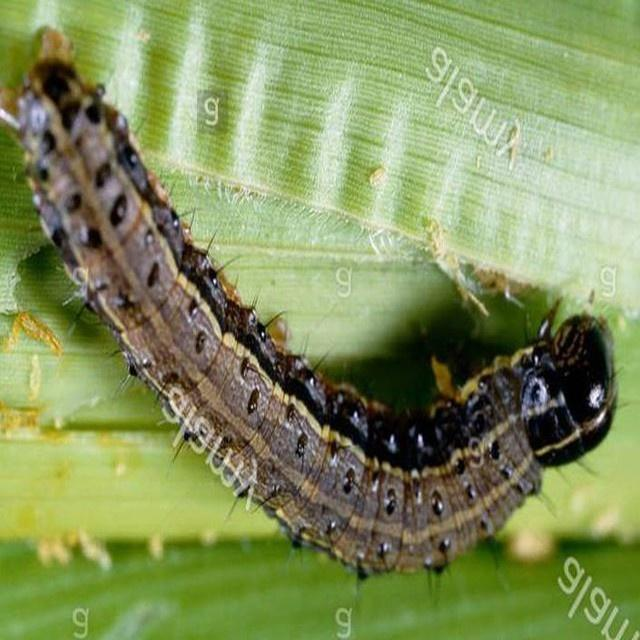gusano_cogollero: (13, 54, 620, 576)
